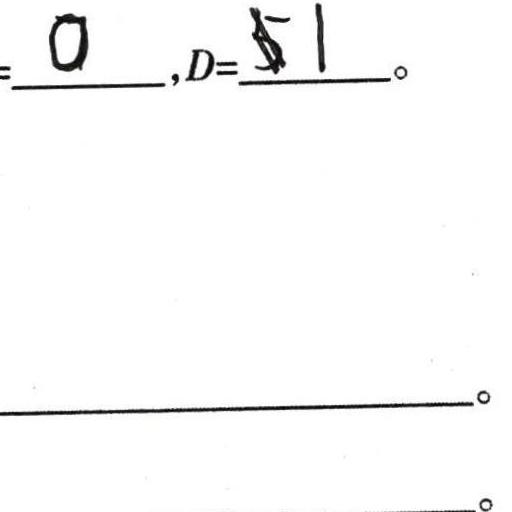ans: (46, 11, 91, 76), (310, 0, 332, 75)
